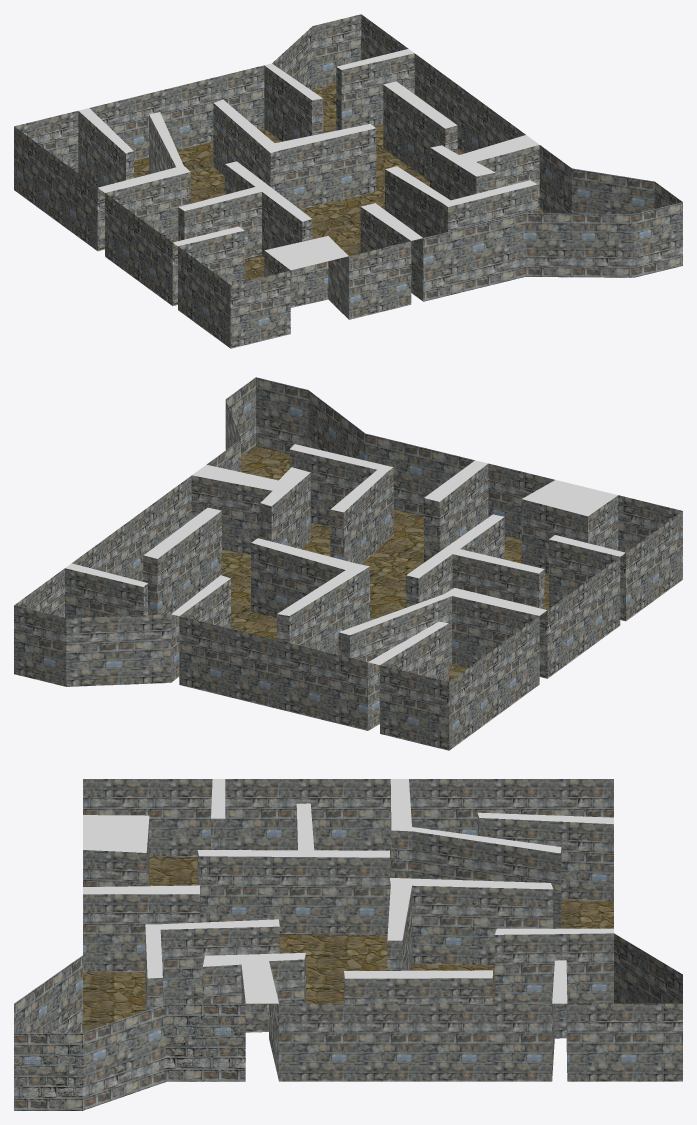
The picture shows the model from 3 angles, top to bottom: view 1: azimuth 30°, elevation 25°; view 2: azimuth 150°, elevation 25°; view 3: azimuth 270°, elevation 25°; orthographic projection. The views are drawn at different scales.
Visible parts, largest first — view 1: Plane; view 2: Plane; view 3: Plane.
Part boxes in pixels (x1=…): Plane: x1=14, y1=14, x2=682, y2=348; Plane: x1=14, y1=377, x2=682, y2=750; Plane: x1=14, y1=779, x2=682, y2=1110.
Bounding box in the file's own units: 17.43 × 19.43 × 2.5.
